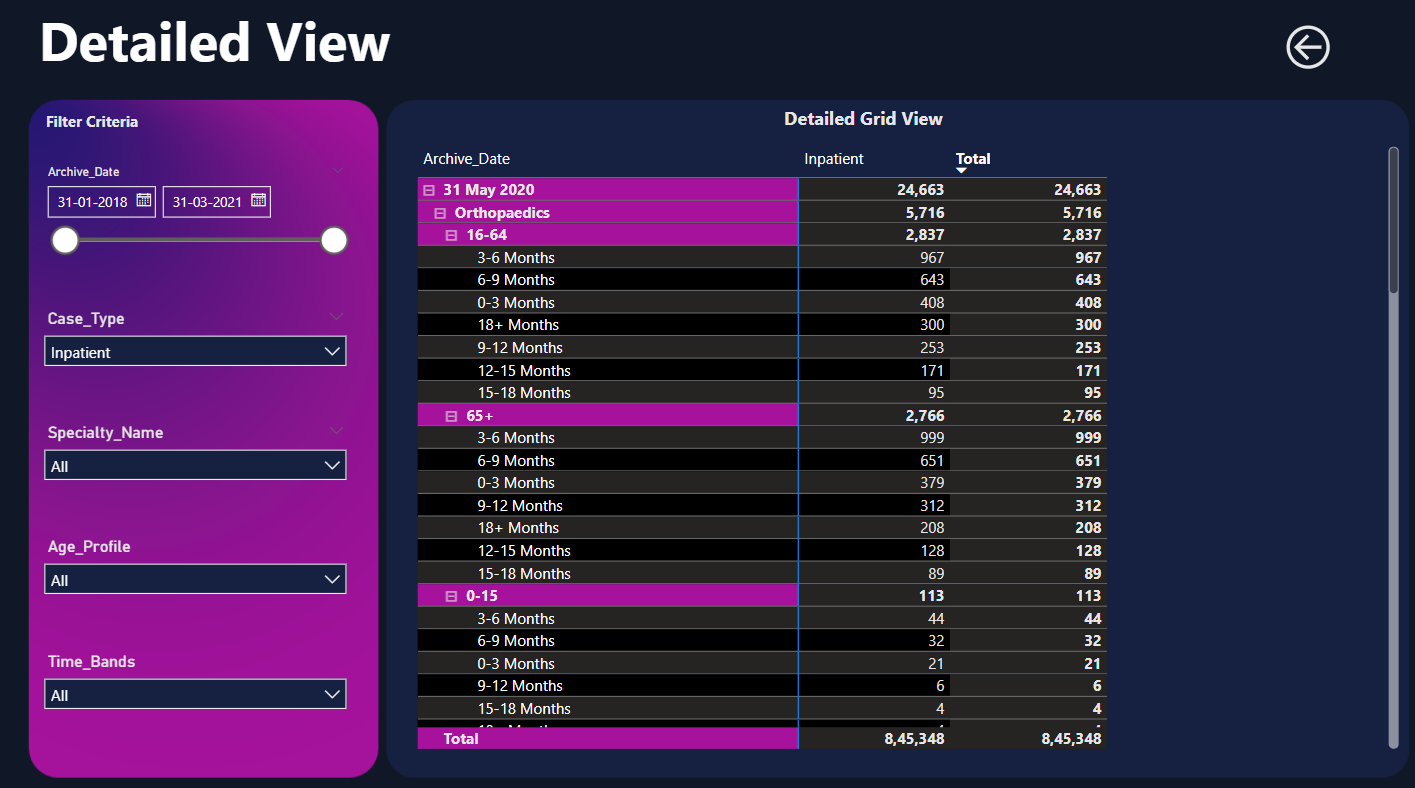

What the dashboard file says about the page in this screenshot:
{"tool":"powerbi","page":{"name":"Detail","canvas":[1280,720],"ordinal":1},"visuals":[{"type":"slicer","fields":{"Values":["All_Data.Archive_Date"]},"box":[32,144,288,112],"z":0},{"type":"slicer","fields":{"Values":["All_Data.Case_Type"]},"box":[32,272,288,80],"z":1000},{"type":"slicer","fields":{"Values":["All_Data.Specialty_Name"]},"box":[32,373.3,288,80],"z":2000},{"type":"slicer","fields":{"Values":["All_Data.Age_Profile"]},"box":[32,474.7,288,80],"z":3000},{"type":"slicer","fields":{"Values":["All_Data.Time_Bands"]},"box":[32,576,288,80],"z":4000},{"type":"pivotTable","fields":{"Rows":["All_Data.Archive_Date","All_Data.Specialty_Name","All_Data.Age_Profile","All_Data.Time_Bands"],"Columns":["All_Data.Case_Type"],"Values":["Sum(All_Data.Total)"]},"box":[368,128,880,544],"z":5000},{"type":"textbox","box":[32,0,400,80],"z":6000},{"type":"textbox","box":[38.2,96.4,318.2,40],"z":7000},{"type":"textbox","box":[609.1,90.9,318.2,40],"z":8000},{"type":"actionButton","box":[1137.8,19.7,110.4,49.9],"z":9000}]}

Visuals, with their boxes in screenshot pixels (x1, y1, x2, y2), scaled from the page's 1280x720 canvas onto the 1415x788 screenshot:
slicer - All_Data.Archive_Date: 35, 158, 354, 280
slicer - All_Data.Case_Type: 35, 298, 354, 385
slicer - All_Data.Specialty_Name: 35, 409, 354, 496
slicer - All_Data.Age_Profile: 35, 520, 354, 607
slicer - All_Data.Time_Bands: 35, 630, 354, 718
pivotTable - All_Data.Archive_Date x All_Data.Specialty_Name: 407, 140, 1380, 735
textbox: 35, 0, 478, 88
textbox: 42, 106, 394, 149
textbox: 673, 99, 1025, 143
actionButton: 1258, 22, 1380, 76
